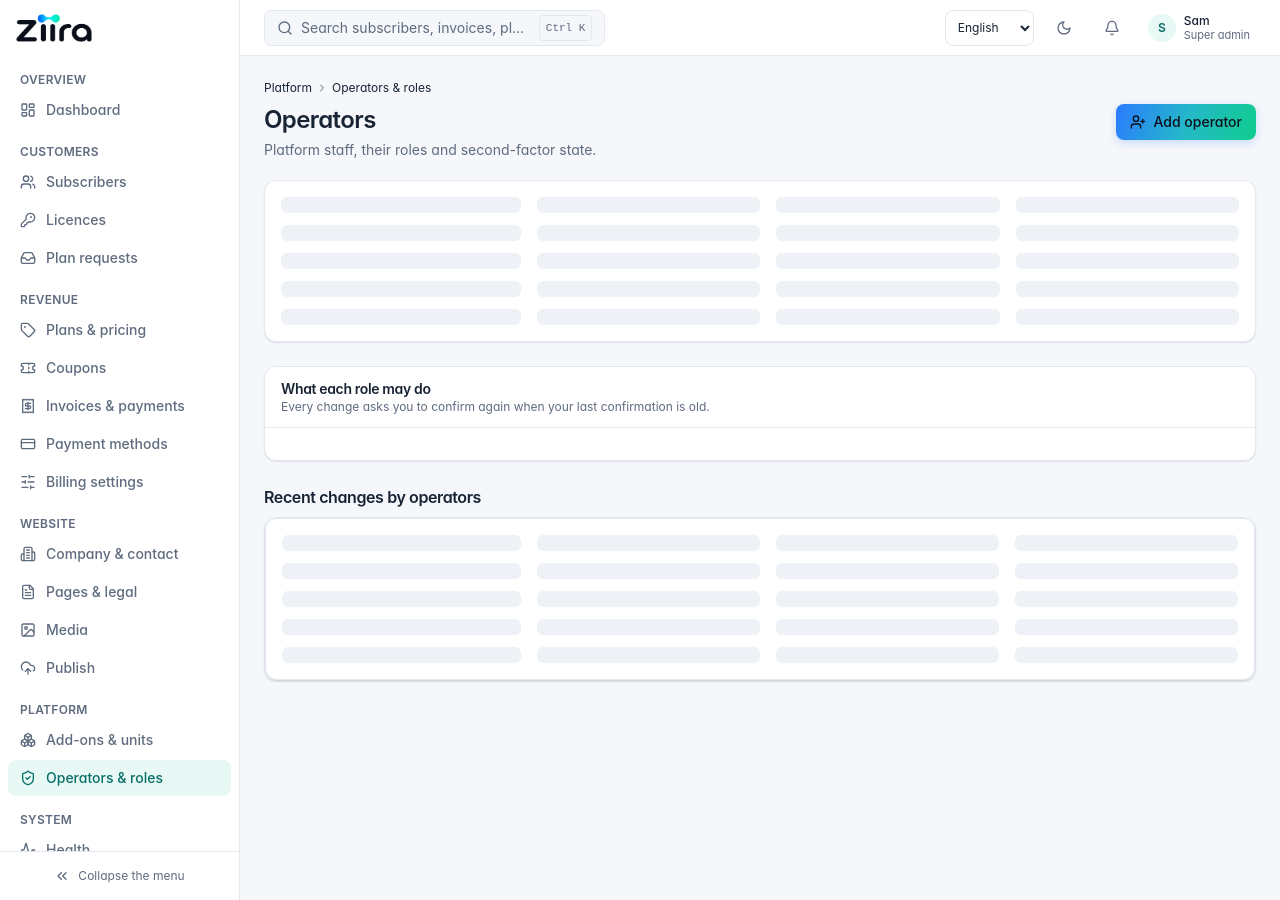
operators › takes an empty password or one of at least 8 characters
Step 1. Click the button "Add operator" → coordinates (1186, 122), box [1116,104,1256,140]
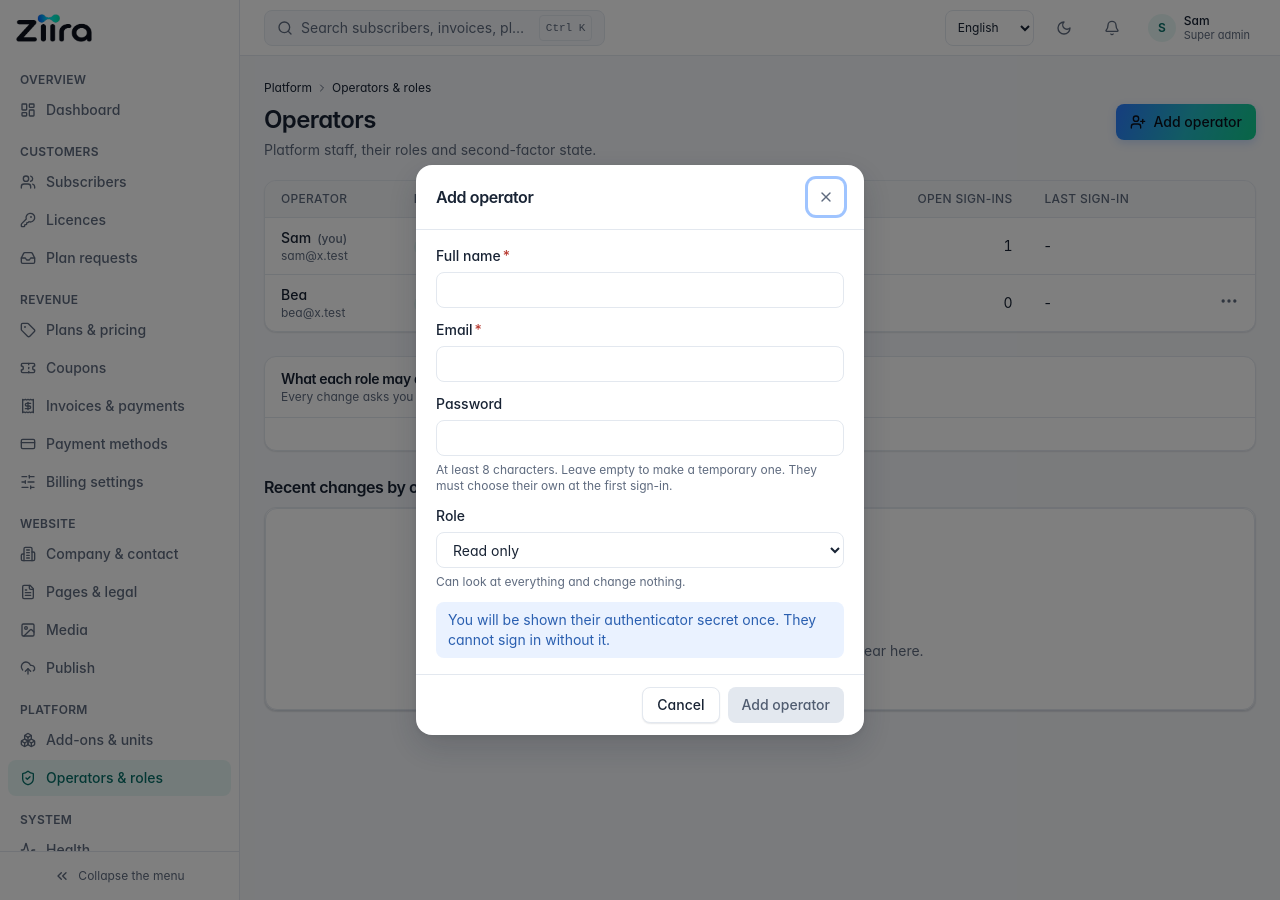
Step 2. Type "Cy Dee" into the field labelled "Full name*" → coordinates (640, 290), box [436,272,844,308]
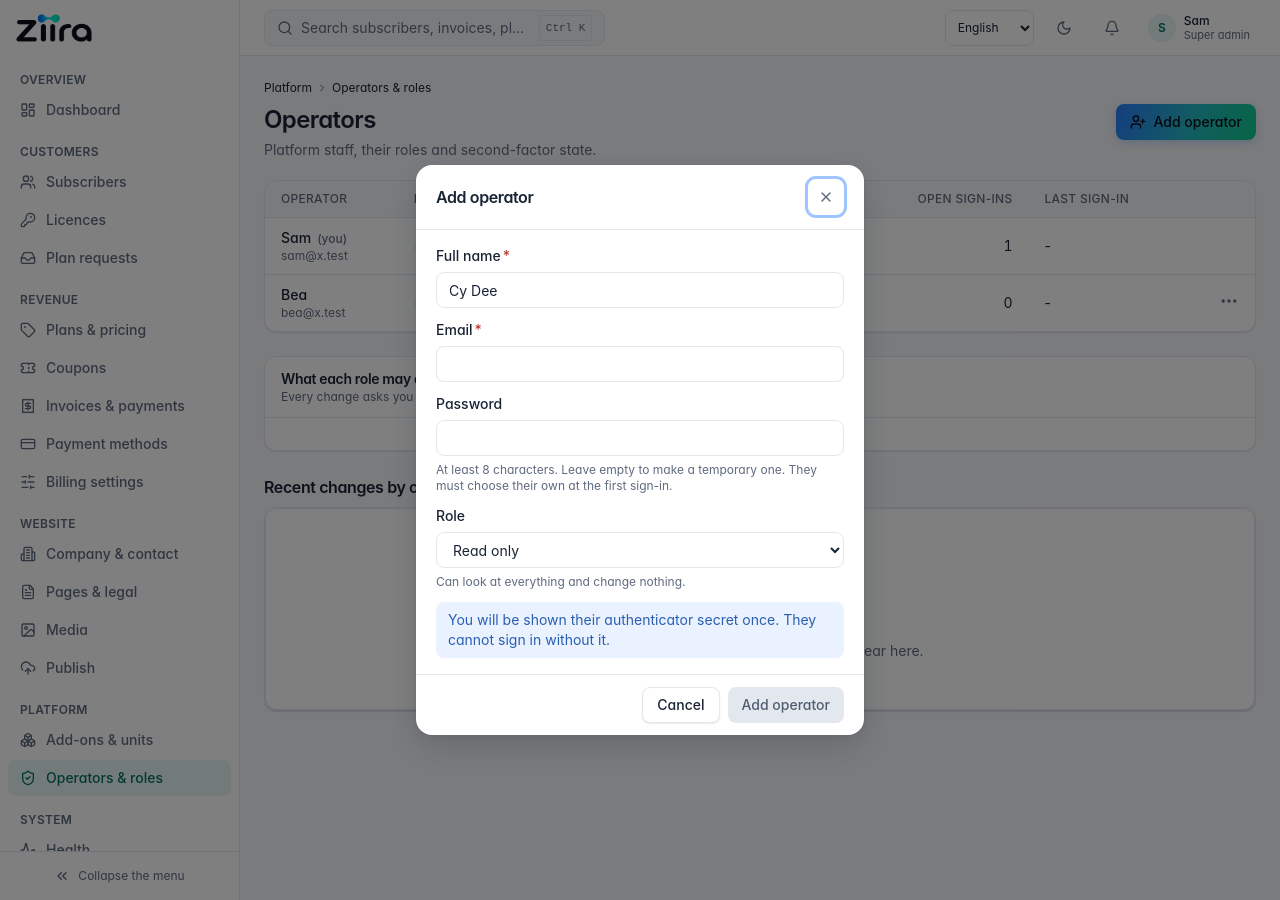
Step 3. Type "cy@x.test" into the field labelled "Email*" → coordinates (640, 364), box [436,346,844,382]
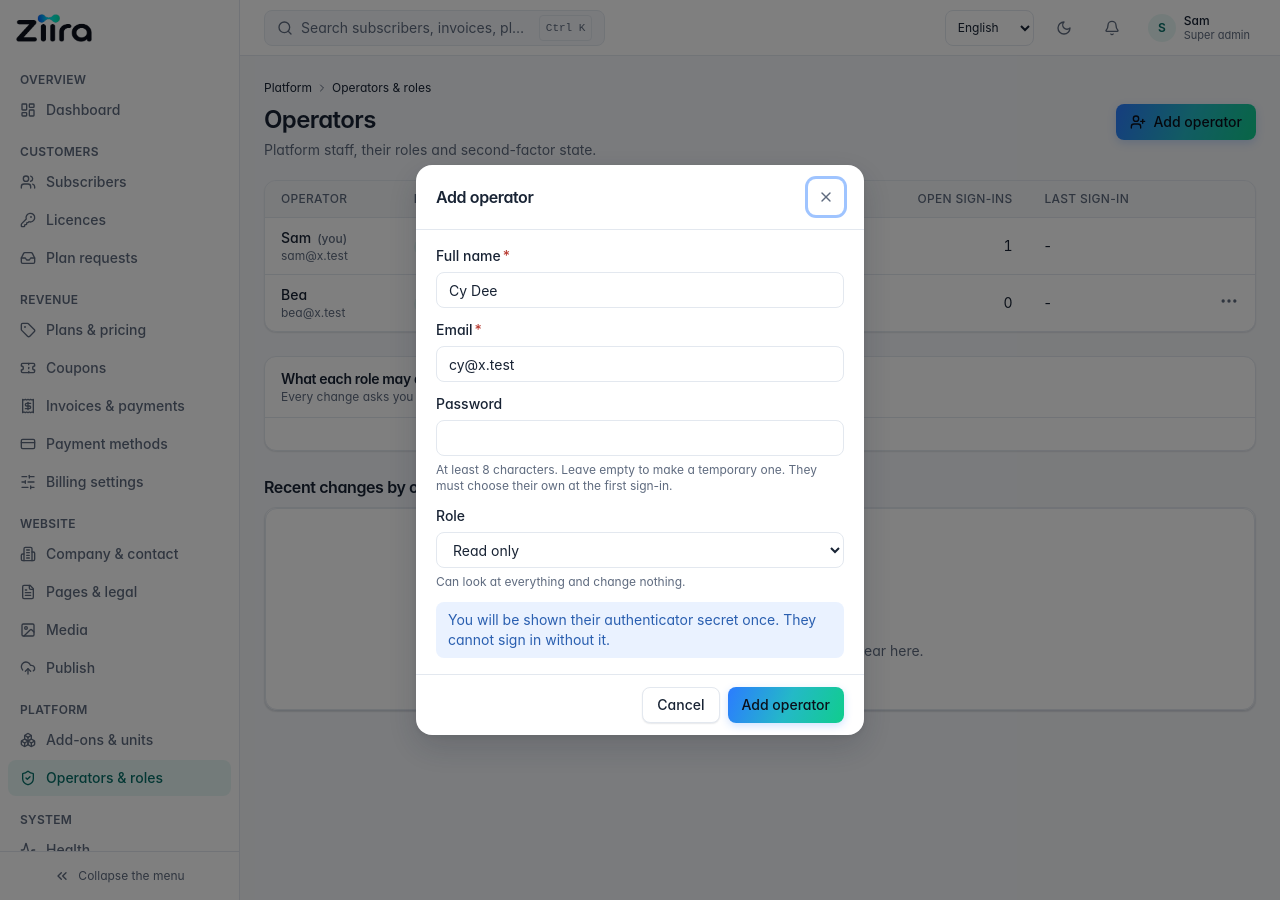
Check: the button "Add operator" is enabled, box [728,687,844,723]
Step 4. Type "short" into the password field labelled "Password" → coordinates (640, 438), box [436,420,844,456]
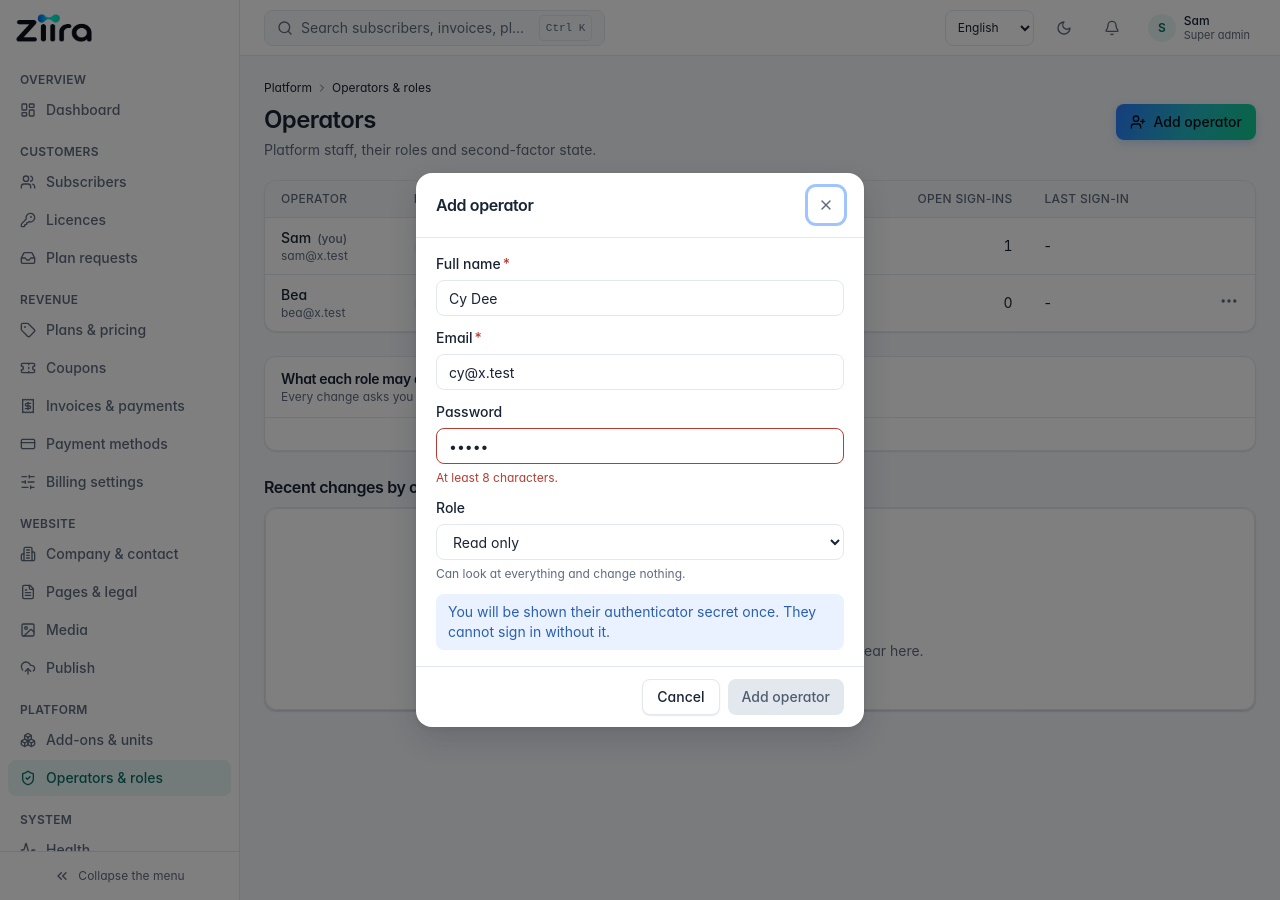
Check: the button "Add operator" is disabled, box [728,679,844,715]
Step 5. Type "a-long-enough-pass" into the password field labelled "Password" → coordinates (640, 446), box [436,428,844,464]
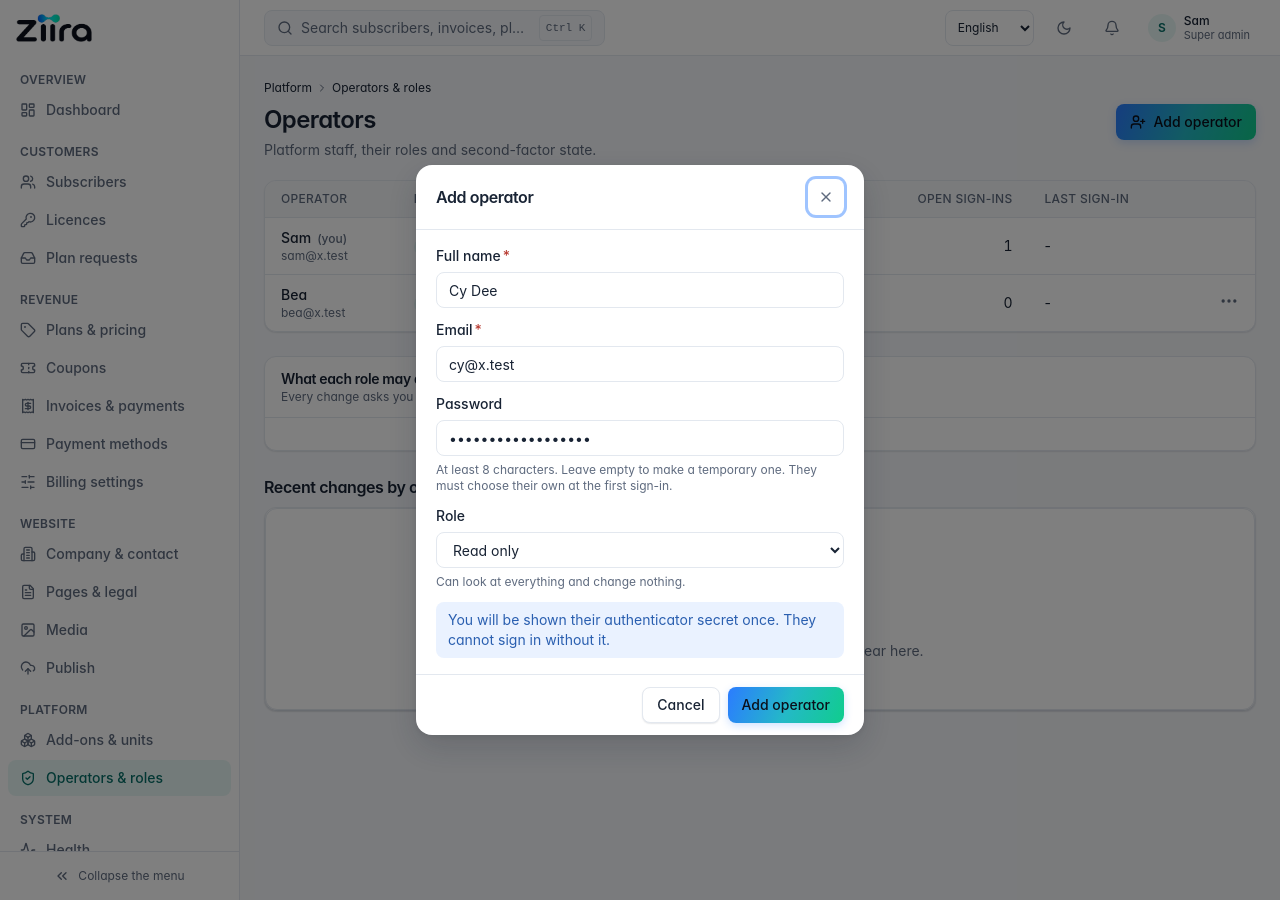
Check: the button "Add operator" is enabled, box [728,687,844,723]
